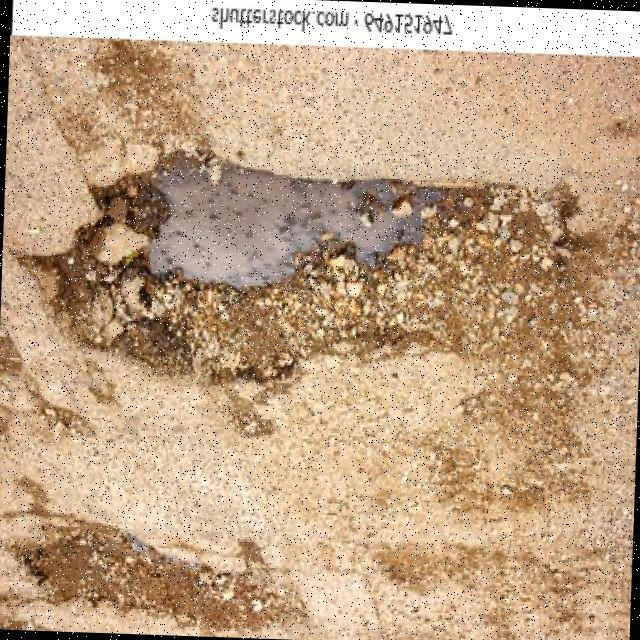Pothole: (22, 145, 568, 388), (26, 519, 310, 629)
